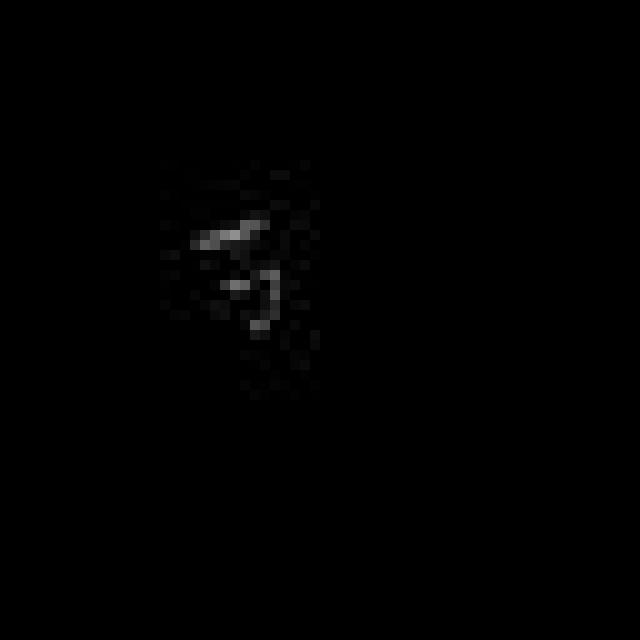10000 -a ten thousand-: (182, 200, 296, 352)
